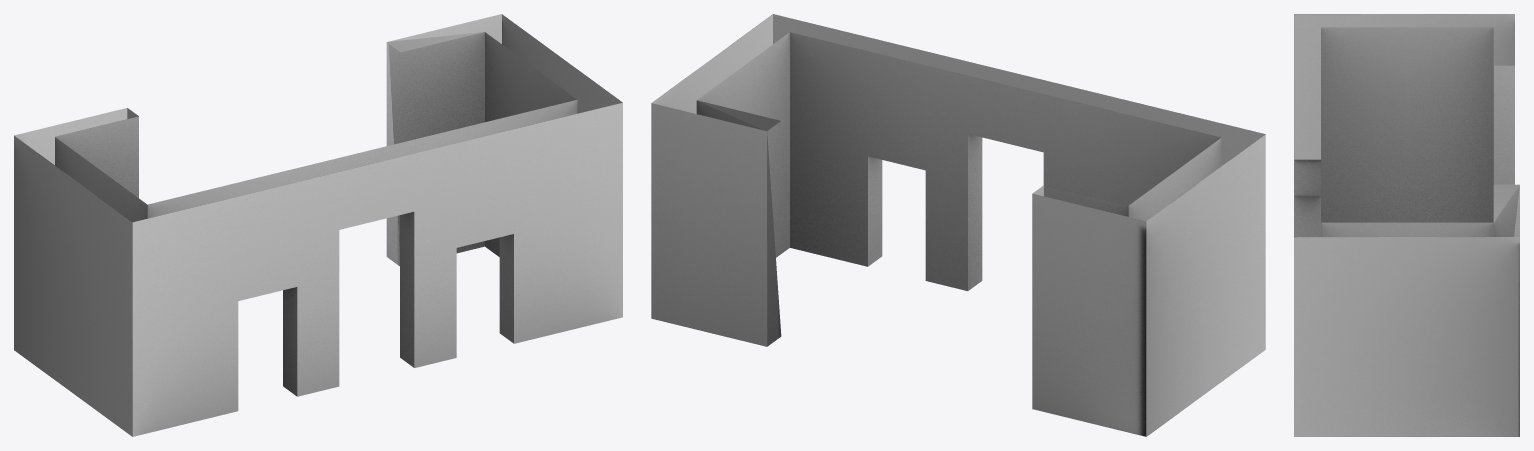
The model's file is propylon-walls.glb.
3 renders of one model, left to right at view 1: azimuth 30°, elevation 25°; view 2: azimuth 150°, elevation 25°; view 3: azimuth 270°, elevation 25°, orthographic. The views are drawn at different scales.
Parts seen in each view (by area): view 1: Cube; view 2: Cube; view 3: Cube.
Part boxes in pixels (box(x1,y1,x2,y2)): Cube: box(14, 14, 622, 436); Cube: box(651, 14, 1265, 436); Cube: box(1294, 14, 1519, 436).
Size of the model in its own units: 15.8 by 6.61 by 6.76.
Materials: 1 (1 with a texture image).
